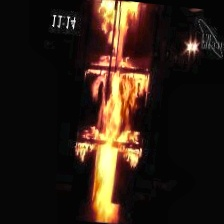fire: (55, 0, 172, 224)
